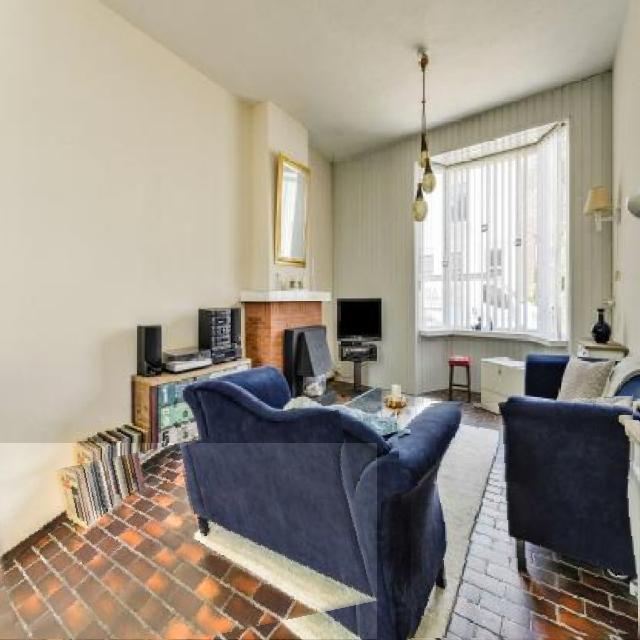floor: (0, 444, 377, 640), (412, 403, 639, 639)
